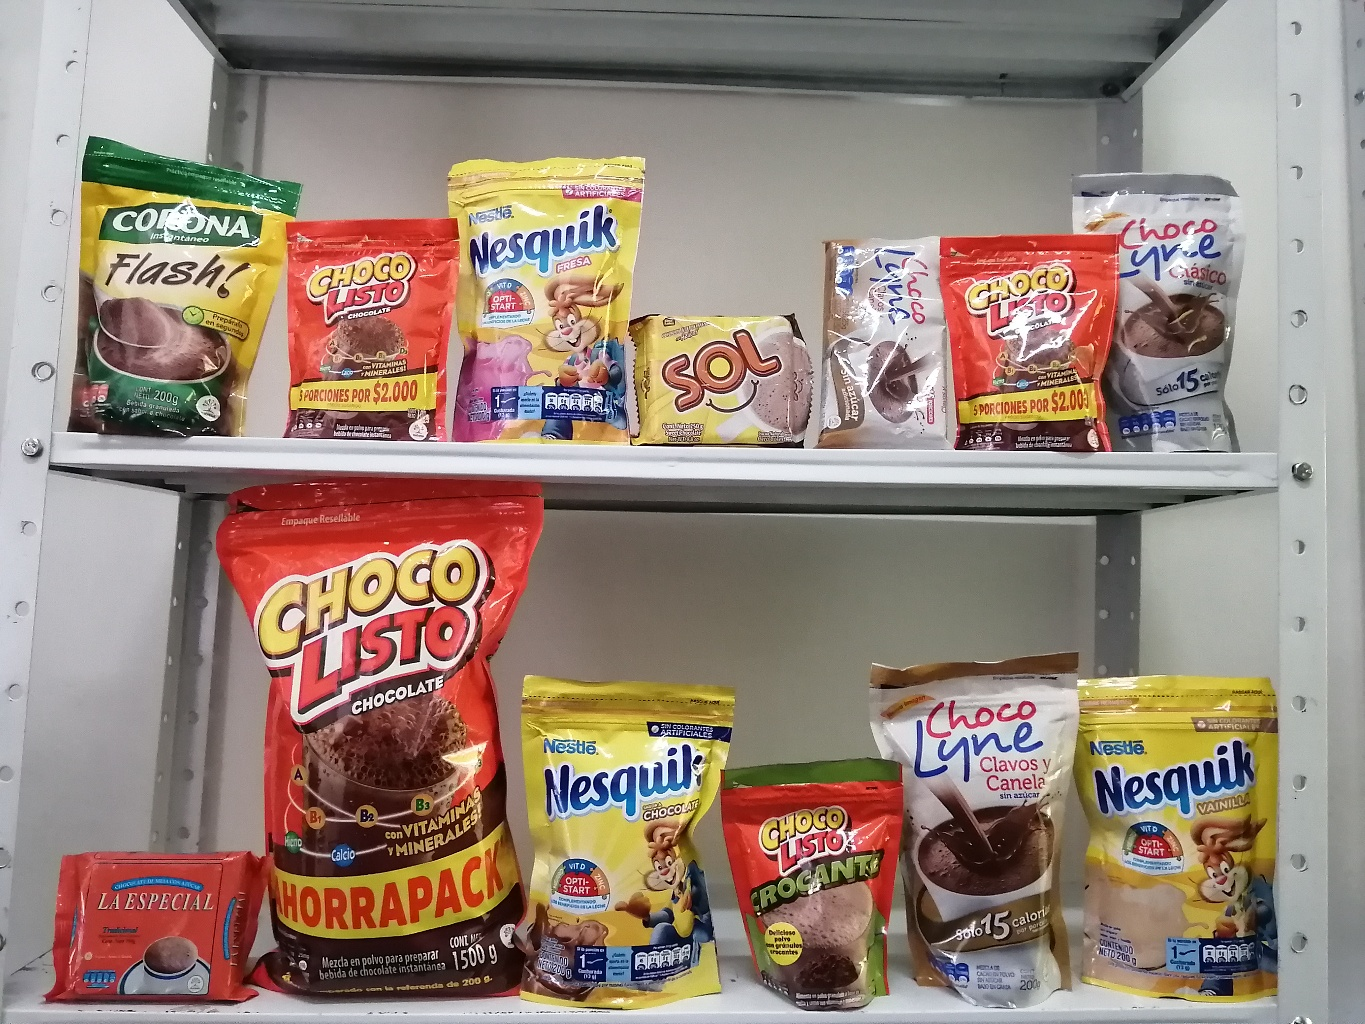COL0170102DYP10000: (706, 733, 926, 1021)
COL0170103DYP1,500: (194, 454, 581, 1006)
COL0170103DYP10000: (921, 214, 1128, 454)
COL0170303DYP20000: (490, 659, 750, 1014)
COL0170305DYP20000: (423, 130, 650, 454)
COL0170306DYP20000: (1057, 659, 1310, 1014)
